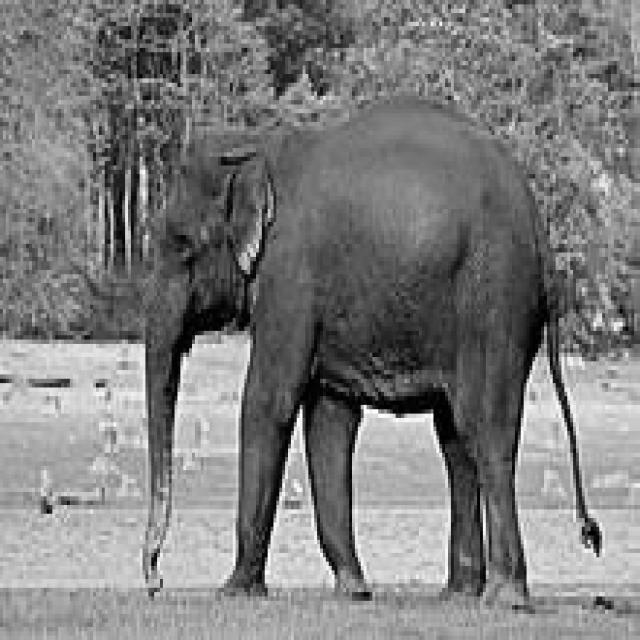Elephant: (140, 87, 602, 605)
